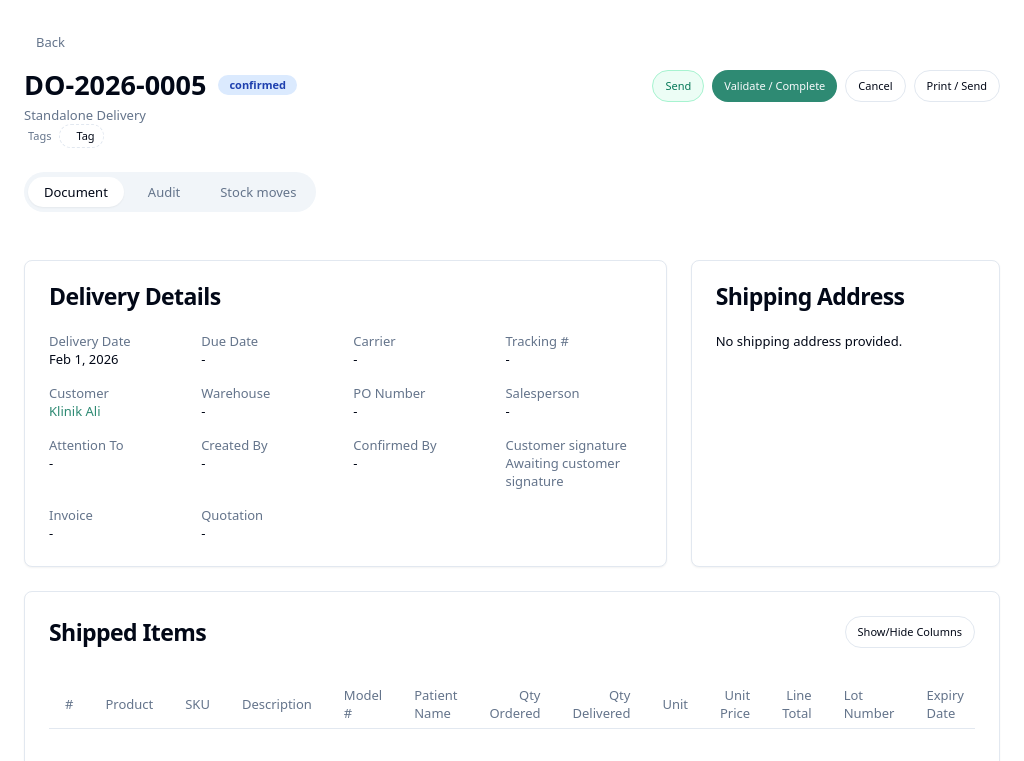
Test: DeliveryOrderDetailPage — shared print and send menu (#618) › offers the menu with an Email action (the existing send flow) and no WhatsApp
Press the mouse on the button "Print / Send" at coordinates (957, 86), box [914,70,1000,102]
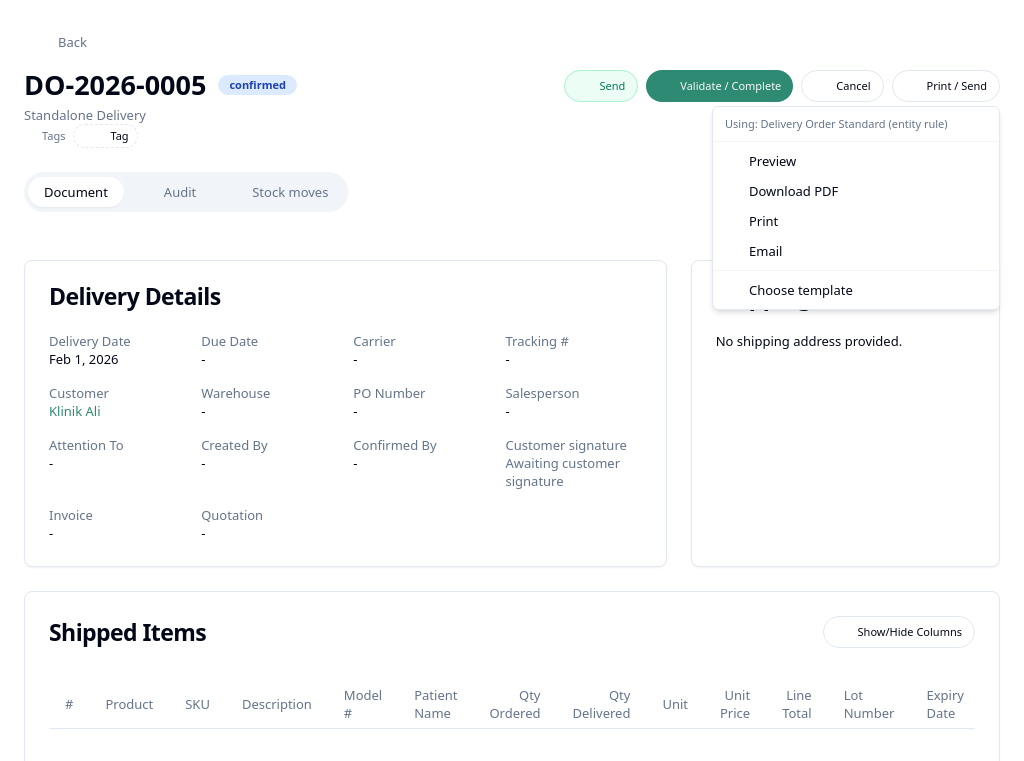
Expected: the menu item "Preview" is shown, [725,152,796,170]
Expected: the menu item "Download PDF" is shown, [725,182,838,200]
Expected: the menu item "Print" is shown, [725,212,778,230]
